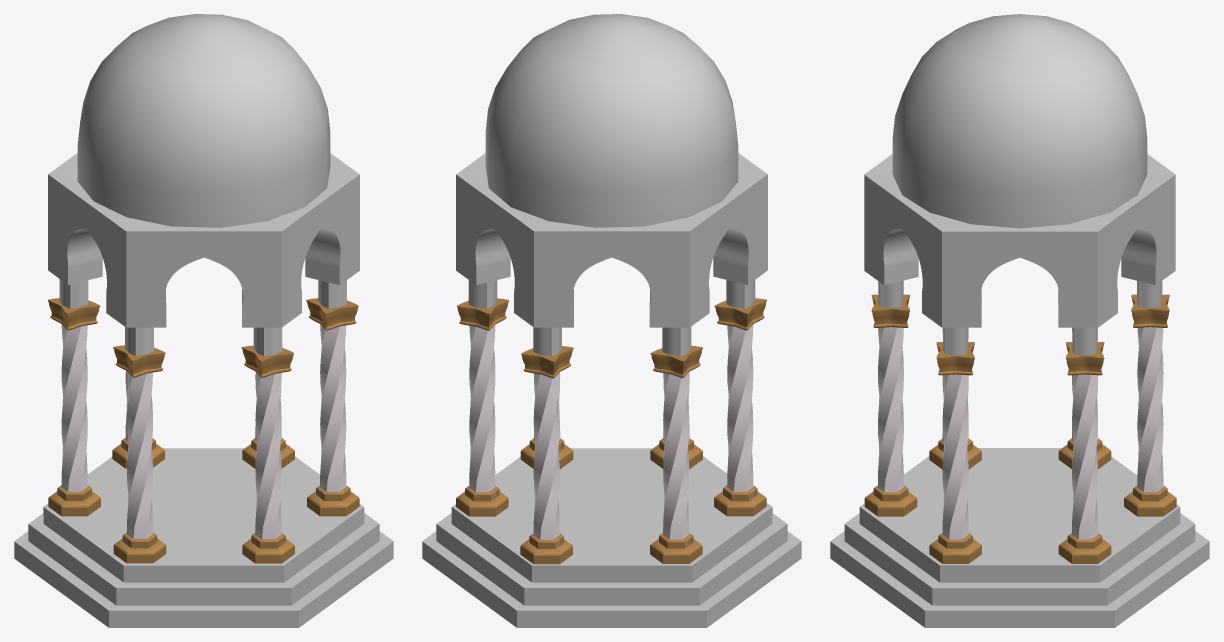
The model's file is Agora.fbx.
The picture shows the model from 3 angles, left to right: view 1: azimuth 30°, elevation 25°; view 2: azimuth 150°, elevation 25°; view 3: azimuth 270°, elevation 25°; orthographic projection.
Parts seen in each view (by area): view 1: Sphere, Base, Cube.001, Column.001|Cylinder.001_L_Column_02.blend|Dupli|, Column.005|Cylinder.001_L_Column_02.blend|Dupli|, Column.002|Cylinder.001_L_Column_02.blend|Dupli|, Column.006|Cylinder.001_L_Column_02.blend|Dupli|, Cube, Column.006|Cylinder_L_Column_02.blend|Dupli|1, Column.005|Cylinder_L_Column_02.blend|Dupli|1, Column.002|Cylinder_L_Column_02.blend|Dupli|1, Column.001|Cylinder_L_Column_02.blend|Dupli|1 (+6 smaller); view 2: Sphere, Base, Cube.001, Column.003|Cylinder.001_L_Column_02.blend|Dupli|, Column.004|Cylinder.001_L_Column_02.blend|Dupli|, Column.006|Cylinder.001_L_Column_02.blend|Dupli|, Column.005|Cylinder.001_L_Column_02.blend|Dupli|, Cube, Column.004|Cylinder_L_Column_02.blend|Dupli|1, Column.006|Cylinder_L_Column_02.blend|Dupli|1, Column.003|Cylinder_L_Column_02.blend|Dupli|1, Column.005|Cylinder_L_Column_02.blend|Dupli|1 (+6 smaller); view 3: Sphere, Base, Cube.001, Column.004|Cylinder.001_L_Column_02.blend|Dupli|, Column.002|Cylinder.001_L_Column_02.blend|Dupli|, Column.001|Cylinder.001_L_Column_02.blend|Dupli|, Column.003|Cylinder.001_L_Column_02.blend|Dupli|, Cube, Column.001|Cylinder_L_Column_02.blend|Dupli|1, Column.003|Cylinder_L_Column_02.blend|Dupli|1, Column.004|Cylinder_L_Column_02.blend|Dupli|1, Column.002|Cylinder_L_Column_02.blend|Dupli|1 (+6 smaller).
Part boxes in pixels (x1=…): Sphere: x1=77, y1=14, x2=330, y2=227; Base: x1=14, y1=448, x2=393, y2=627; Cube.001: x1=48, y1=153, x2=359, y2=327; Column.001|Cylinder.001_L_Column_02.blend|Dupli|: x1=255, y1=372, x2=281, y2=539; Column.005|Cylinder.001_L_Column_02.blend|Dupli|: x1=61, y1=324, x2=87, y2=491; Column.002|Cylinder.001_L_Column_02.blend|Dupli|: x1=320, y1=324, x2=346, y2=491; Column.006|Cylinder.001_L_Column_02.blend|Dupli|: x1=127, y1=371, x2=152, y2=538; Cube: x1=59, y1=279, x2=346, y2=356; Column.006|Cylinder_L_Column_02.blend|Dupli|1: x1=113, y1=532, x2=166, y2=563; Column.005|Cylinder_L_Column_02.blend|Dupli|1: x1=48, y1=485, x2=100, y2=516; Column.002|Cylinder_L_Column_02.blend|Dupli|1: x1=307, y1=485, x2=359, y2=516; Column.001|Cylinder_L_Column_02.blend|Dupli|1: x1=242, y1=533, x2=294, y2=563; Sphere: x1=485, y1=14, x2=738, y2=227; Base: x1=422, y1=448, x2=801, y2=627; Cube.001: x1=456, y1=153, x2=767, y2=327; Column.003|Cylinder.001_L_Column_02.blend|Dupli|: x1=469, y1=325, x2=495, y2=492; Column.004|Cylinder.001_L_Column_02.blend|Dupli|: x1=533, y1=372, x2=559, y2=539; Column.006|Cylinder.001_L_Column_02.blend|Dupli|: x1=727, y1=324, x2=753, y2=491; Column.005|Cylinder.001_L_Column_02.blend|Dupli|: x1=663, y1=372, x2=689, y2=539; Cube: x1=468, y1=280, x2=755, y2=356; Column.004|Cylinder_L_Column_02.blend|Dupli|1: x1=520, y1=533, x2=572, y2=564; Column.006|Cylinder_L_Column_02.blend|Dupli|1: x1=714, y1=485, x2=766, y2=516; Column.003|Cylinder_L_Column_02.blend|Dupli|1: x1=456, y1=485, x2=508, y2=516; Column.005|Cylinder_L_Column_02.blend|Dupli|1: x1=650, y1=533, x2=702, y2=563; Sphere: x1=892, y1=14, x2=1147, y2=228; Base: x1=830, y1=448, x2=1209, y2=627; Cube.001: x1=864, y1=154, x2=1175, y2=327; Column.004|Cylinder.001_L_Column_02.blend|Dupli|: x1=1137, y1=327, x2=1163, y2=492; Column.002|Cylinder.001_L_Column_02.blend|Dupli|: x1=942, y1=374, x2=968, y2=539; Column.001|Cylinder.001_L_Column_02.blend|Dupli|: x1=878, y1=327, x2=903, y2=492; Column.003|Cylinder.001_L_Column_02.blend|Dupli|: x1=1072, y1=374, x2=1098, y2=539; Cube: x1=878, y1=280, x2=1162, y2=355; Column.001|Cylinder_L_Column_02.blend|Dupli|1: x1=864, y1=485, x2=917, y2=516; Column.003|Cylinder_L_Column_02.blend|Dupli|1: x1=1058, y1=533, x2=1111, y2=563; Column.004|Cylinder_L_Column_02.blend|Dupli|1: x1=1124, y1=486, x2=1176, y2=516; Column.002|Cylinder_L_Column_02.blend|Dupli|1: x1=929, y1=533, x2=981, y2=563.
Size of the model in its own units: 467 by 404 by 728.
